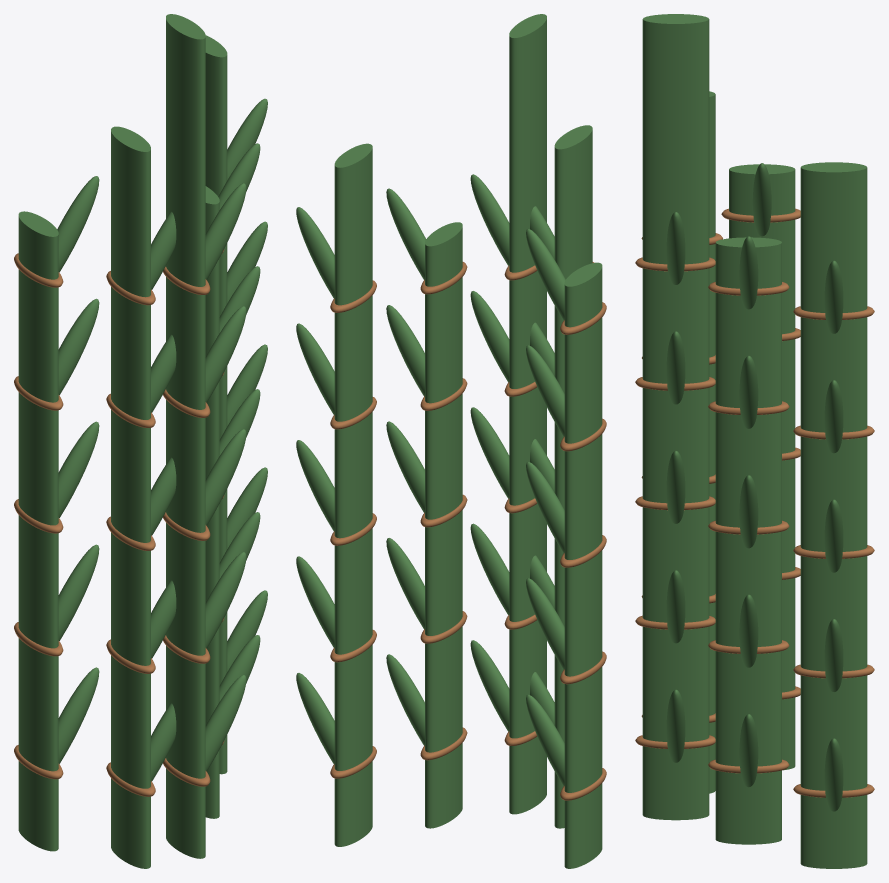
Rendered from wp-bambous.glb.
3 renders of one model, left to right at view 1: azimuth 30°, elevation 25°; view 2: azimuth 150°, elevation 25°; view 3: azimuth 270°, elevation 25°, orthographic. The views are drawn at different scales.
Visible parts, largest first — view 1: wp-bambous; view 2: wp-bambous; view 3: wp-bambous.
Part boxes in pixels (left/top/right/bottom): wp-bambous: left=14, top=14, right=267, bottom=868; wp-bambous: left=296, top=14, right=606, bottom=868; wp-bambous: left=635, top=14, right=874, bottom=868.
Bounding box in the file's own units: 0.7839 × 2.2 × 0.6.
